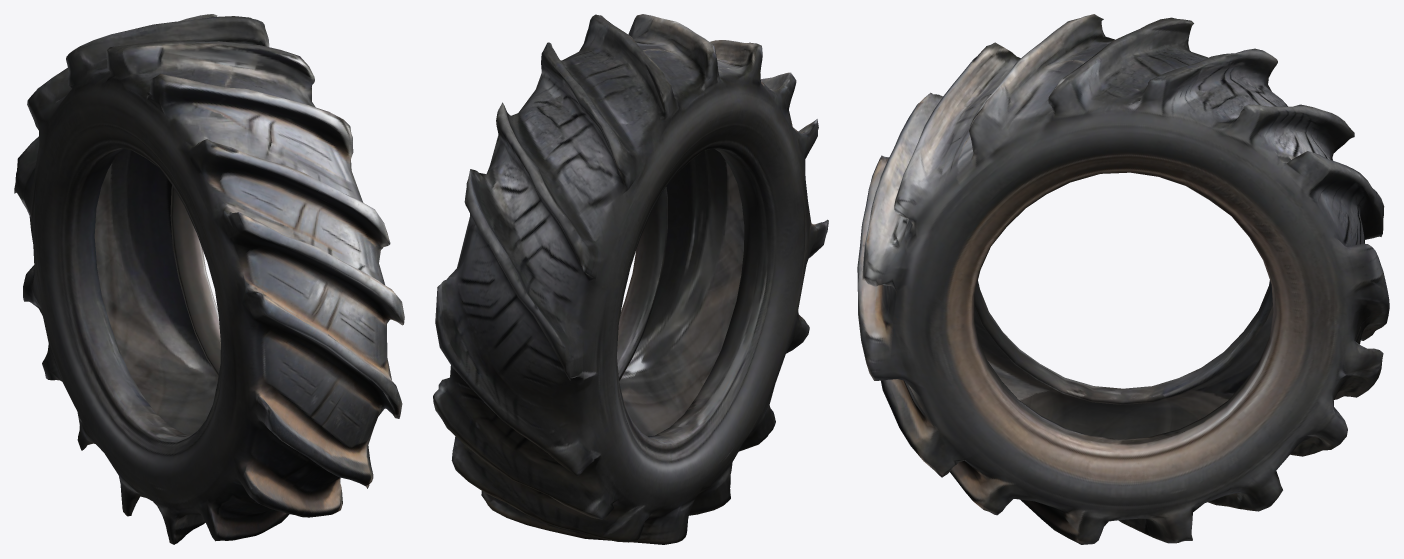
3 renders of one model, left to right at view 1: azimuth 30°, elevation 25°; view 2: azimuth 150°, elevation 25°; view 3: azimuth 270°, elevation 25°, orthographic.
Size of the model in its own units: 0.6604 by 2 by 2.
Materials: 1 (1 with a texture image).
